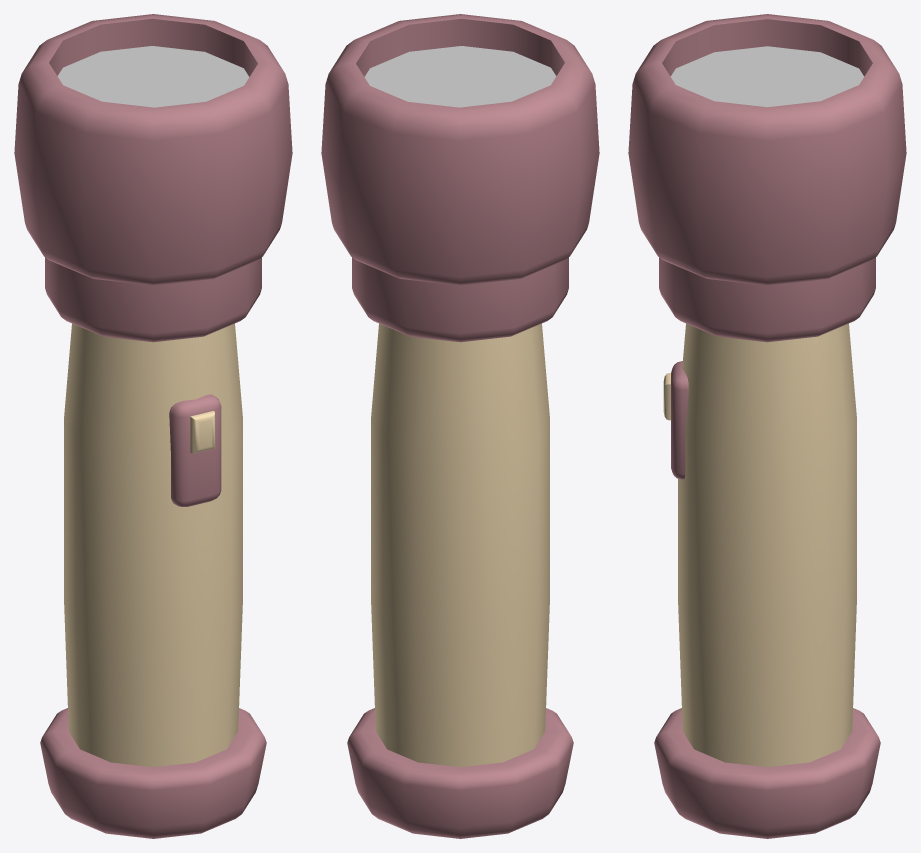
File: Handle Light_2.fbx
3 renders of one model, left to right at view 1: azimuth 30°, elevation 25°; view 2: azimuth 150°, elevation 25°; view 3: azimuth 270°, elevation 25°, orthographic.
Parts seen in each view (by area): view 1: Handle Light_2; view 2: Handle Light_2; view 3: Handle Light_2.
Boxes of the visible parts, bbox=[...] form: Handle Light_2: bbox=[14, 14, 292, 838]; Handle Light_2: bbox=[321, 14, 599, 838]; Handle Light_2: bbox=[628, 14, 906, 838].
Bounding box in the file's own units: 0.0585 × 0.1712 × 0.0585.
